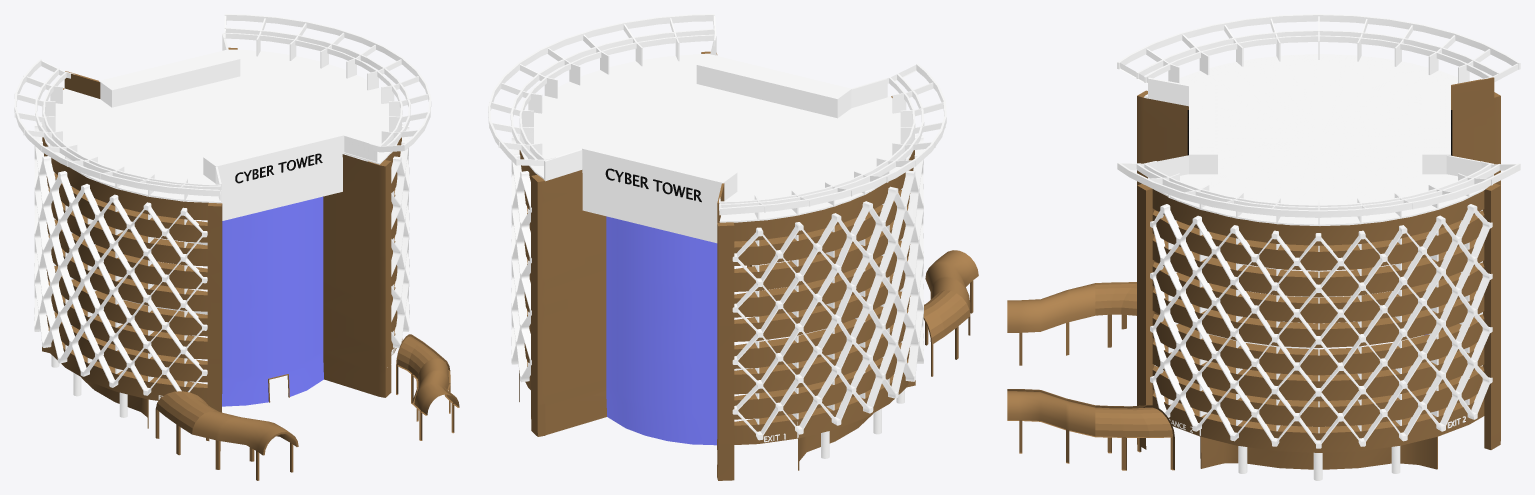
The model's file is cyber towers main.glb.
3 views of the same model, side by side, from view 1: azimuth 30°, elevation 25°; view 2: azimuth 150°, elevation 25°; view 3: azimuth 270°, elevation 25° (orthographic). The views are drawn at different scales.
Parts seen in each view (by area): view 1: model_4, model_3, model_2, model_0, model_5, model_1; view 2: model_4, model_3, model_2, model_0, model_5, model_1; view 3: model_4, model_3, model_5, model_0.
Part boxes in pixels (x1,y1,x2,y2): model_4: (14, 14, 431, 417); model_3: (42, 47, 402, 428); model_2: (222, 196, 323, 406); model_0: (99, 49, 344, 220); model_5: (155, 334, 459, 480); model_1: (235, 153, 322, 183); model_4: (488, 14, 946, 458); model_3: (519, 51, 915, 480); model_2: (606, 216, 717, 445); model_0: (582, 54, 851, 243); model_5: (734, 241, 978, 376); model_1: (605, 168, 701, 202); model_4: (1117, 14, 1520, 480); model_3: (1137, 77, 1500, 469); model_5: (1007, 282, 1174, 470); model_0: (1189, 84, 1450, 209).
Bounding box in the file's own units: 42.36 × 28.73 × 46.5.
